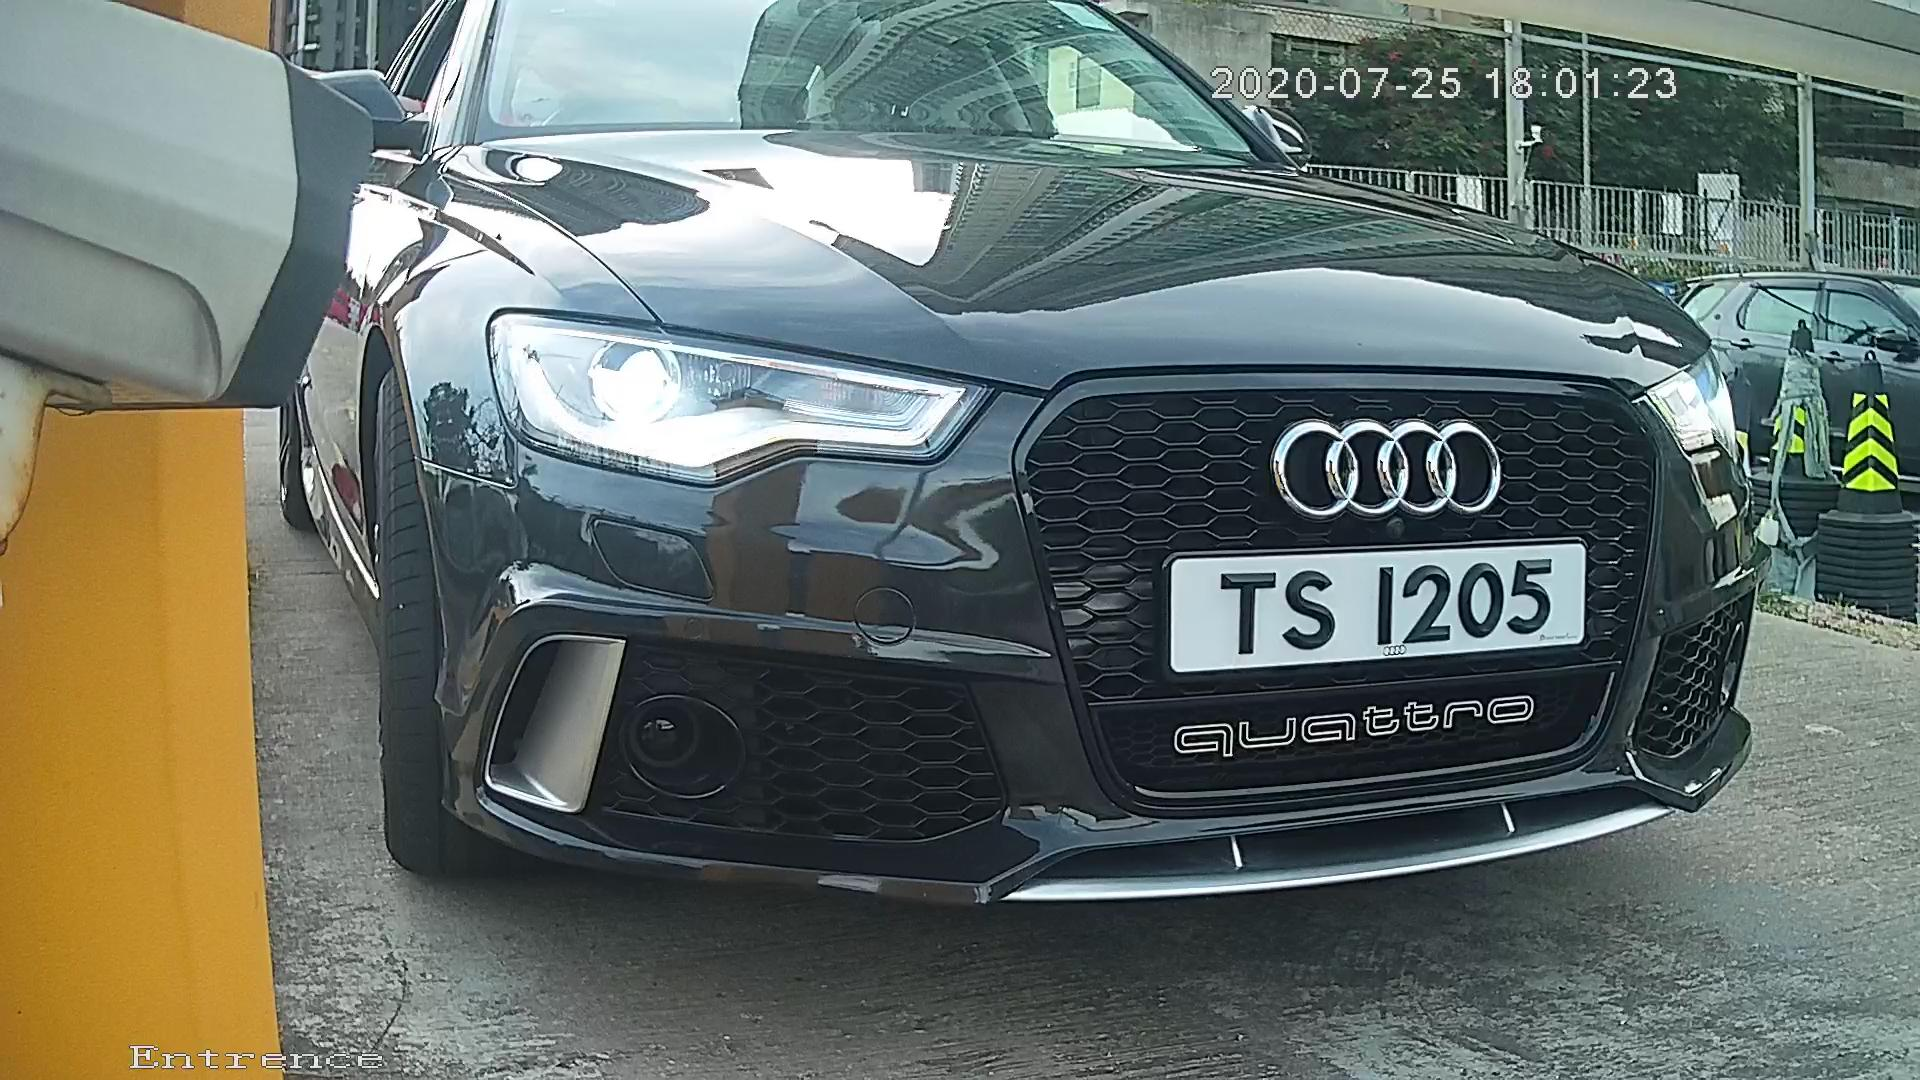License Plate: (1158, 521, 1603, 685)
